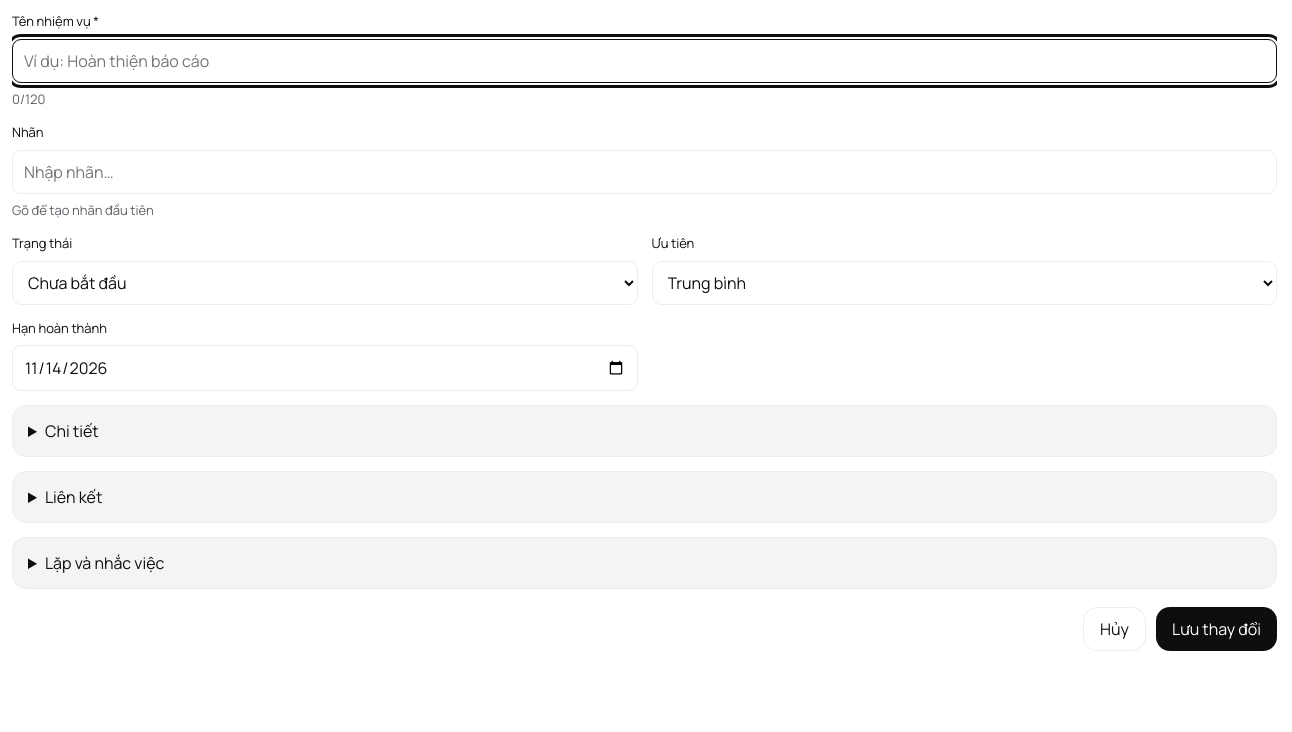
Test: Form nhiệm vụ › bắt buộc tên
Click the button "Lưu thay đổi" at (1216, 629), box x1=1156 y1=607 x2=1277 y2=651
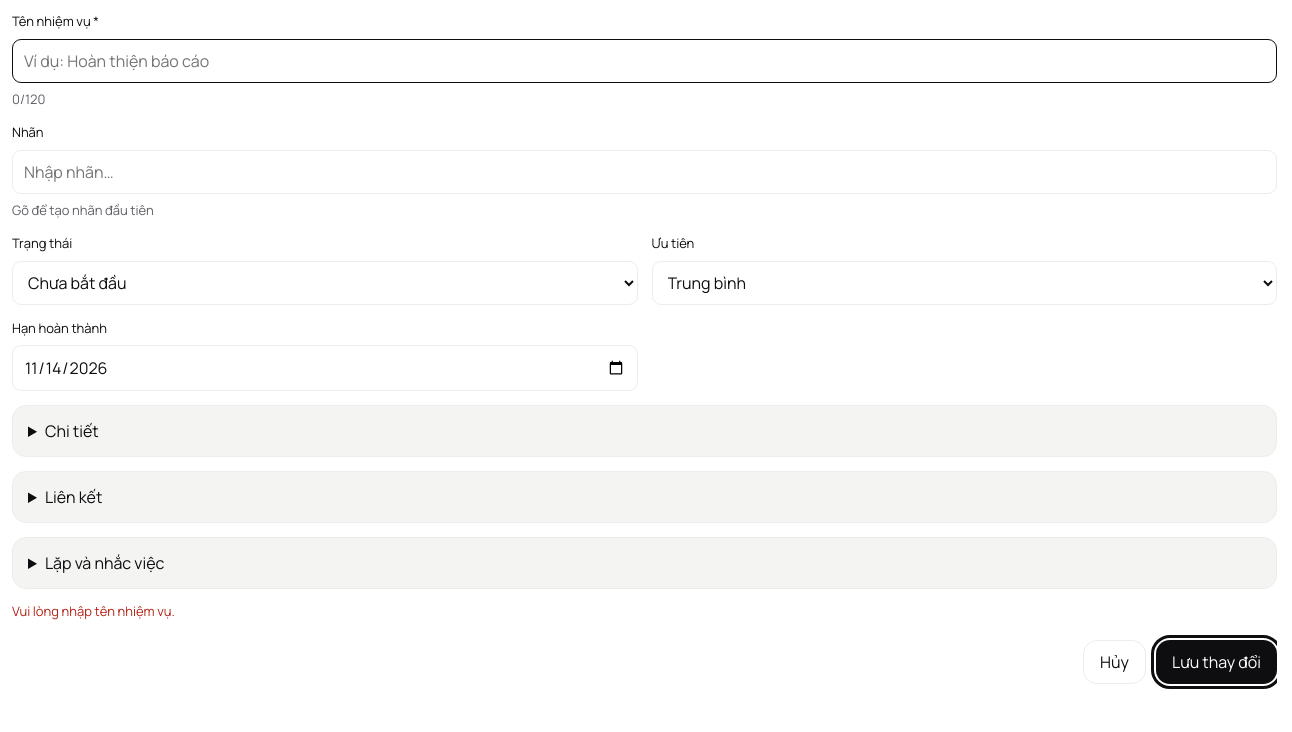
expect the message shows "Vui lòng nhập tên": met, box x1=12 y1=602 x2=175 y2=620
